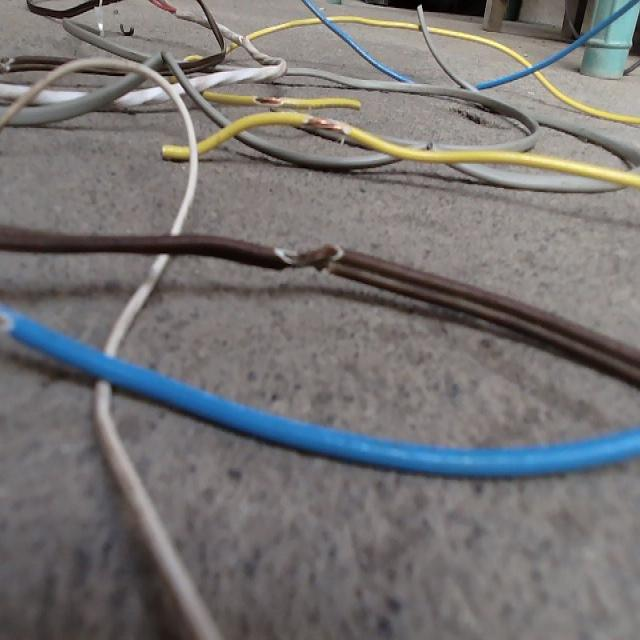-: (277, 243, 342, 273), (303, 115, 351, 136), (254, 95, 283, 108)
